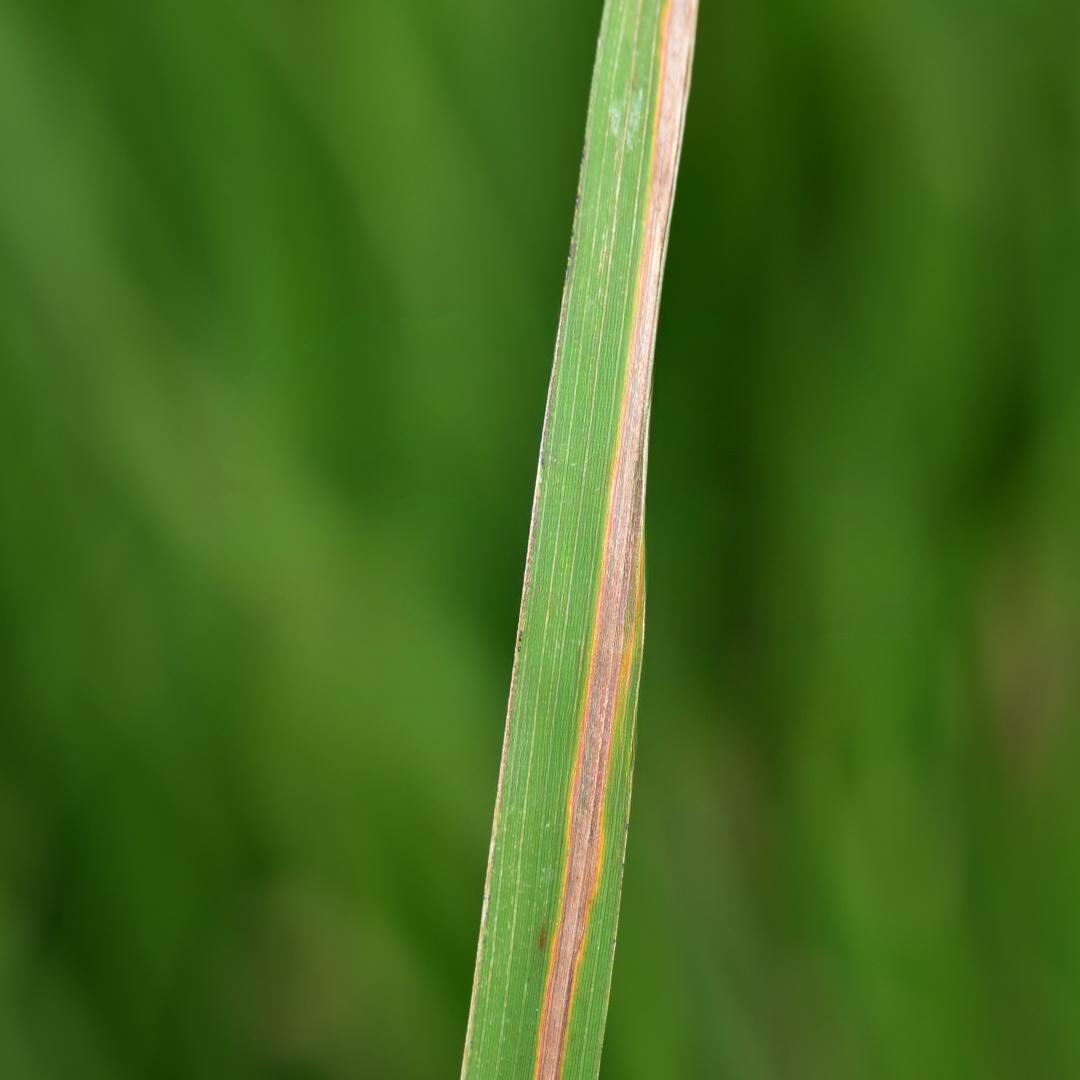BLB: (533, 0, 696, 1079)
